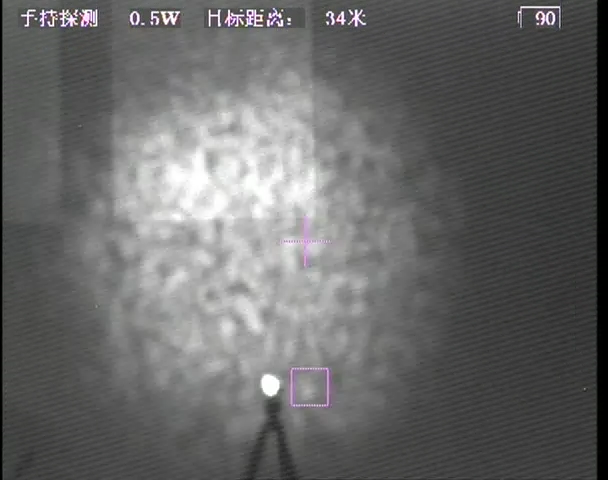my: (257, 373, 284, 396)
